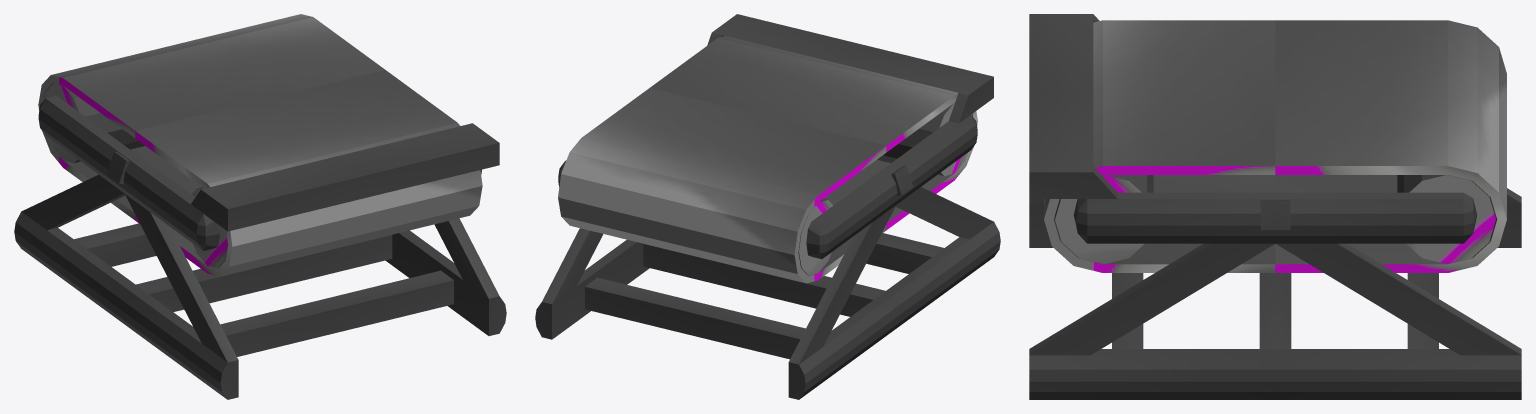
The model's file is conveyor_alu.obj.
3 views of the same model, side by side, from view 1: azimuth 30°, elevation 25°; view 2: azimuth 150°, elevation 25°; view 3: azimuth 270°, elevation 25° (orthographic). The views are drawn at different scales.
Visible parts, largest first — view 1: Support_Alu_smdl_alu, ConveyorRoundEnd_crmdl, ConveyorRoundBegin_crmdl, ConveyorRoundEndCap_Alu_cecmdl_alu, ConveyorRoundEnd_Framing_Alu_crfmdl_alu, ConveyorRoundBegin_Framing_Alu_crfmdl_alu, ConveyorRoundBegin_Walz_Alu_cwalzmdl_alu, ConveyorRoundEnd_Walz_Alu_cwalzmdl_alu, ConveyorDirectionMarker_Alu_cdmdl_alu; view 2: ConveyorRoundBegin_crmdl, Support_Alu_smdl_alu, ConveyorRoundEnd_crmdl, ConveyorRoundEndCap_Alu_cecmdl_alu, ConveyorRoundBegin_Framing_Alu_crfmdl_alu, ConveyorRoundEnd_Framing_Alu_crfmdl_alu, ConveyorRoundEnd_Walz_Alu_cwalzmdl_alu, ConveyorRoundBegin_Walz_Alu_cwalzmdl_alu, ConveyorDirectionMarker_Alu_cdmdl_alu; view 3: Support_Alu_smdl_alu, ConveyorRoundBegin_crmdl, ConveyorRoundEnd_crmdl, ConveyorRoundEndCap_Alu_cecmdl_alu, ConveyorRoundBegin_Framing_Alu_crfmdl_alu, ConveyorRoundEnd_Framing_Alu_crfmdl_alu, ConveyorRoundBegin_Walz_Alu_cwalzmdl_alu, ConveyorRoundEnd_Walz_Alu_cwalzmdl_alu, ConveyorDirectionMarker_Alu_cdmdl_alu.
Part boxes in pixels (left/top/right/bottom): Support_Alu_smdl_alu: left=14, top=174, right=506, bottom=399; ConveyorRoundEnd_crmdl: left=135, top=70, right=482, bottom=276; ConveyorRoundBegin_crmdl: left=38, top=14, right=384, bottom=220; ConveyorRoundEndCap_Alu_cecmdl_alu: left=191, top=123, right=499, bottom=231; ConveyorRoundEnd_Framing_Alu_crfmdl_alu: left=118, top=153, right=481, bottom=250; ConveyorRoundBegin_Framing_Alu_crfmdl_alu: left=38, top=95, right=134, bottom=192; ConveyorRoundBegin_Walz_Alu_cwalzmdl_alu: left=44, top=83, right=144, bottom=163; ConveyorRoundEnd_Walz_Alu_cwalzmdl_alu: left=191, top=187, right=228, bottom=268; ConveyorDirectionMarker_Alu_cdmdl_alu: left=106, top=151, right=130, bottom=184; ConveyorRoundBegin_crmdl: left=558, top=88, right=886, bottom=283; Support_Alu_smdl_alu: left=535, top=187, right=1000, bottom=399; ConveyorRoundEnd_crmdl: left=650, top=36, right=977, bottom=230; ConveyorRoundEndCap_Alu_cecmdl_alu: left=707, top=14, right=993, bottom=123; ConveyorRoundBegin_Framing_Alu_crfmdl_alu: left=558, top=160, right=902, bottom=259; ConveyorRoundEnd_Framing_Alu_crfmdl_alu: left=886, top=115, right=977, bottom=203; ConveyorRoundEnd_Walz_Alu_cwalzmdl_alu: left=877, top=102, right=972, bottom=175; ConveyorRoundBegin_Walz_Alu_cwalzmdl_alu: left=798, top=199, right=832, bottom=275; ConveyorDirectionMarker_Alu_cdmdl_alu: left=891, top=165, right=913, bottom=195; Support_Alu_smdl_alu: left=1029, top=188, right=1521, bottom=399; ConveyorRoundBegin_crmdl: left=1275, top=20, right=1506, bottom=272; ConveyorRoundEnd_crmdl: left=1044, top=20, right=1275, bottom=272; ConveyorRoundEndCap_Alu_cecmdl_alu: left=1029, top=14, right=1117, bottom=198; ConveyorRoundBegin_Framing_Alu_crfmdl_alu: left=1275, top=192, right=1477, bottom=243; ConveyorRoundEnd_Framing_Alu_crfmdl_alu: left=1073, top=192, right=1275, bottom=243; ConveyorRoundBegin_Walz_Alu_cwalzmdl_alu: left=1397, top=175, right=1495, bottom=263; ConveyorRoundEnd_Walz_Alu_cwalzmdl_alu: left=1055, top=175, right=1153, bottom=263; ConveyorDirectionMarker_Alu_cdmdl_alu: left=1260, top=200, right=1290, bottom=229.
Bounding box in the file's own units: 0.826 × 0.51 × 1.
